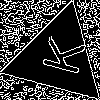K: (33, 33, 86, 77)
